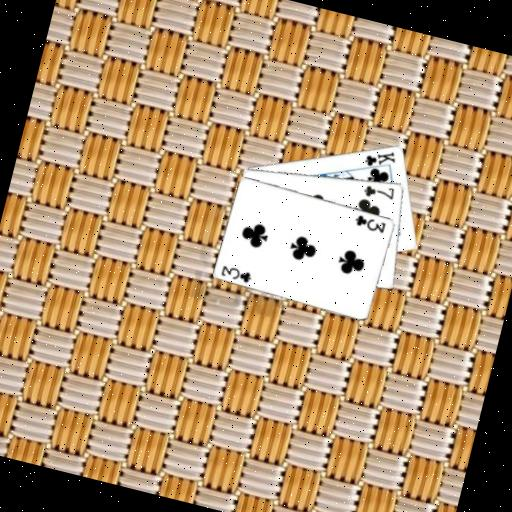3C: (352, 211, 389, 236), (218, 261, 255, 285)
7C: (360, 178, 398, 204)
KC: (360, 142, 400, 178)
